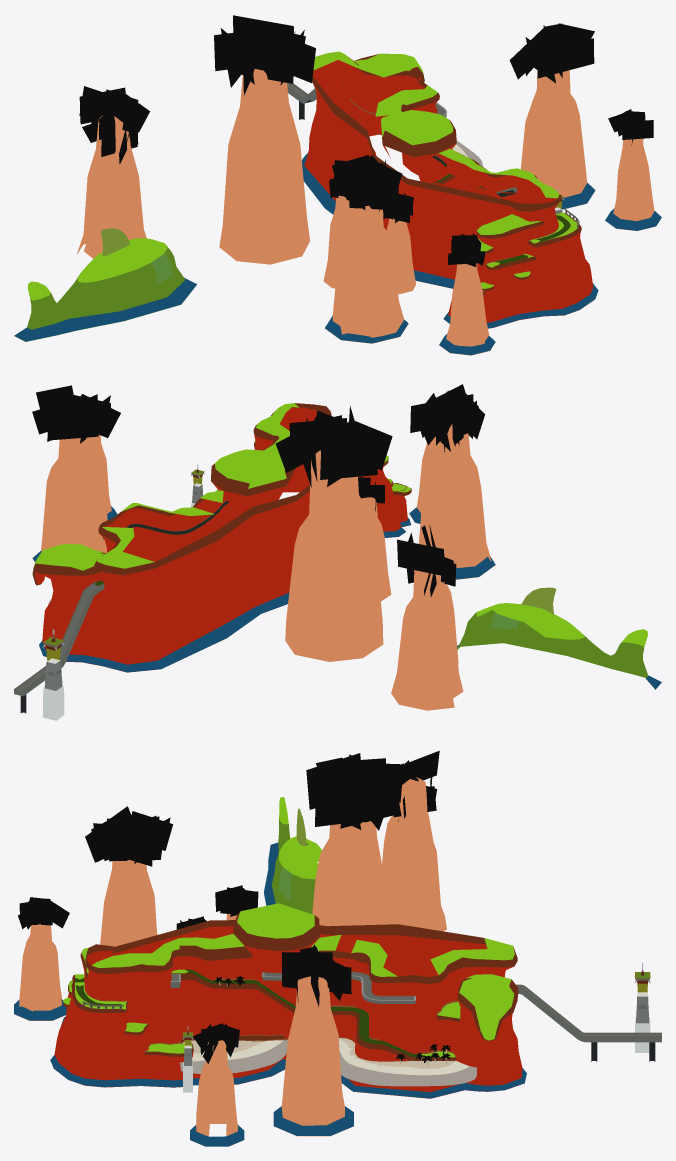
Rendered from Chunk4.obj.
3 views of the same model, one above another, from view 1: azimuth 30°, elevation 25°; view 2: azimuth 150°, elevation 25°; view 3: azimuth 270°, elevation 25° (orthographic). The views are drawn at different scales.
Bounding box in the file's own units: 7421 × 2562 × 6700.
